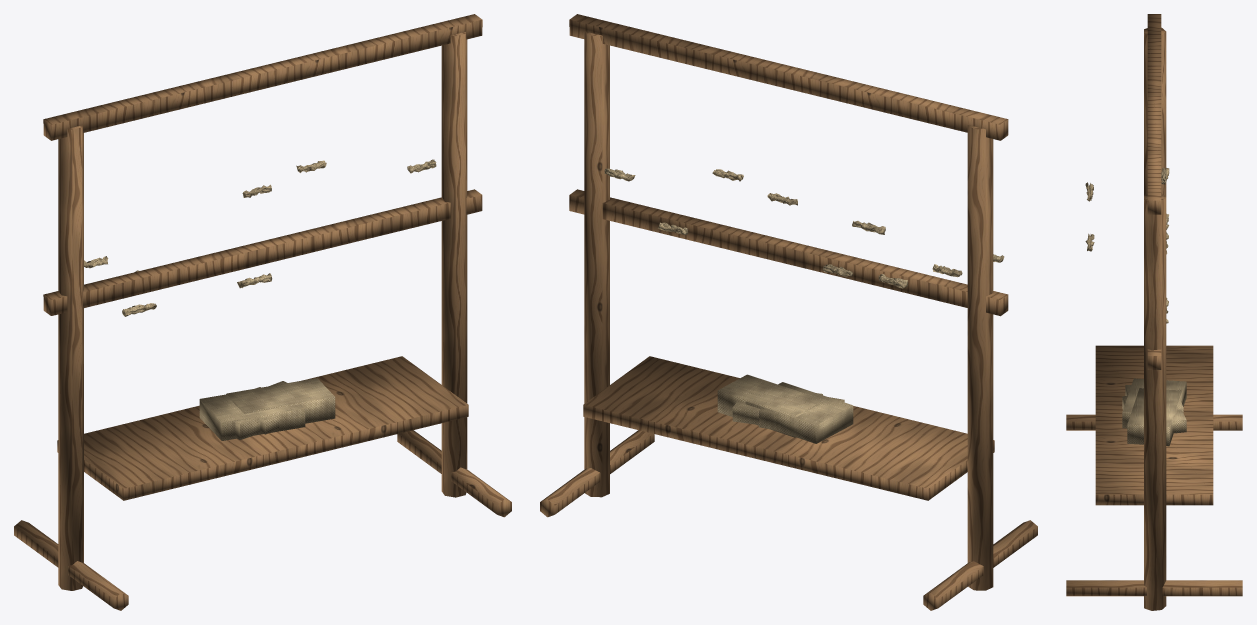
Rendered from rack_cloth.glb.
The picture shows the model from 3 angles, left to right: view 1: azimuth 30°, elevation 25°; view 2: azimuth 150°, elevation 25°; view 3: azimuth 270°, elevation 25°; orthographic projection. The views are drawn at different scales.
Visible parts, largest first — view 1: rack_cloth; view 2: rack_cloth; view 3: rack_cloth.
Boxes of the visible parts, x1=… form: rack_cloth: x1=14, y1=14, x2=511, y2=610; rack_cloth: x1=540, y1=14, x2=1037, y2=610; rack_cloth: x1=1066, y1=14, x2=1242, y2=610.
Size of the model in its own units: 2.25 by 2.34 by 0.8999.
Materials: 2 (2 with a texture image).
